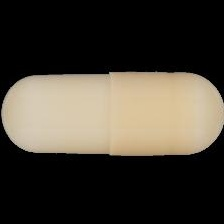21695-441: (0, 0, 224, 224)
